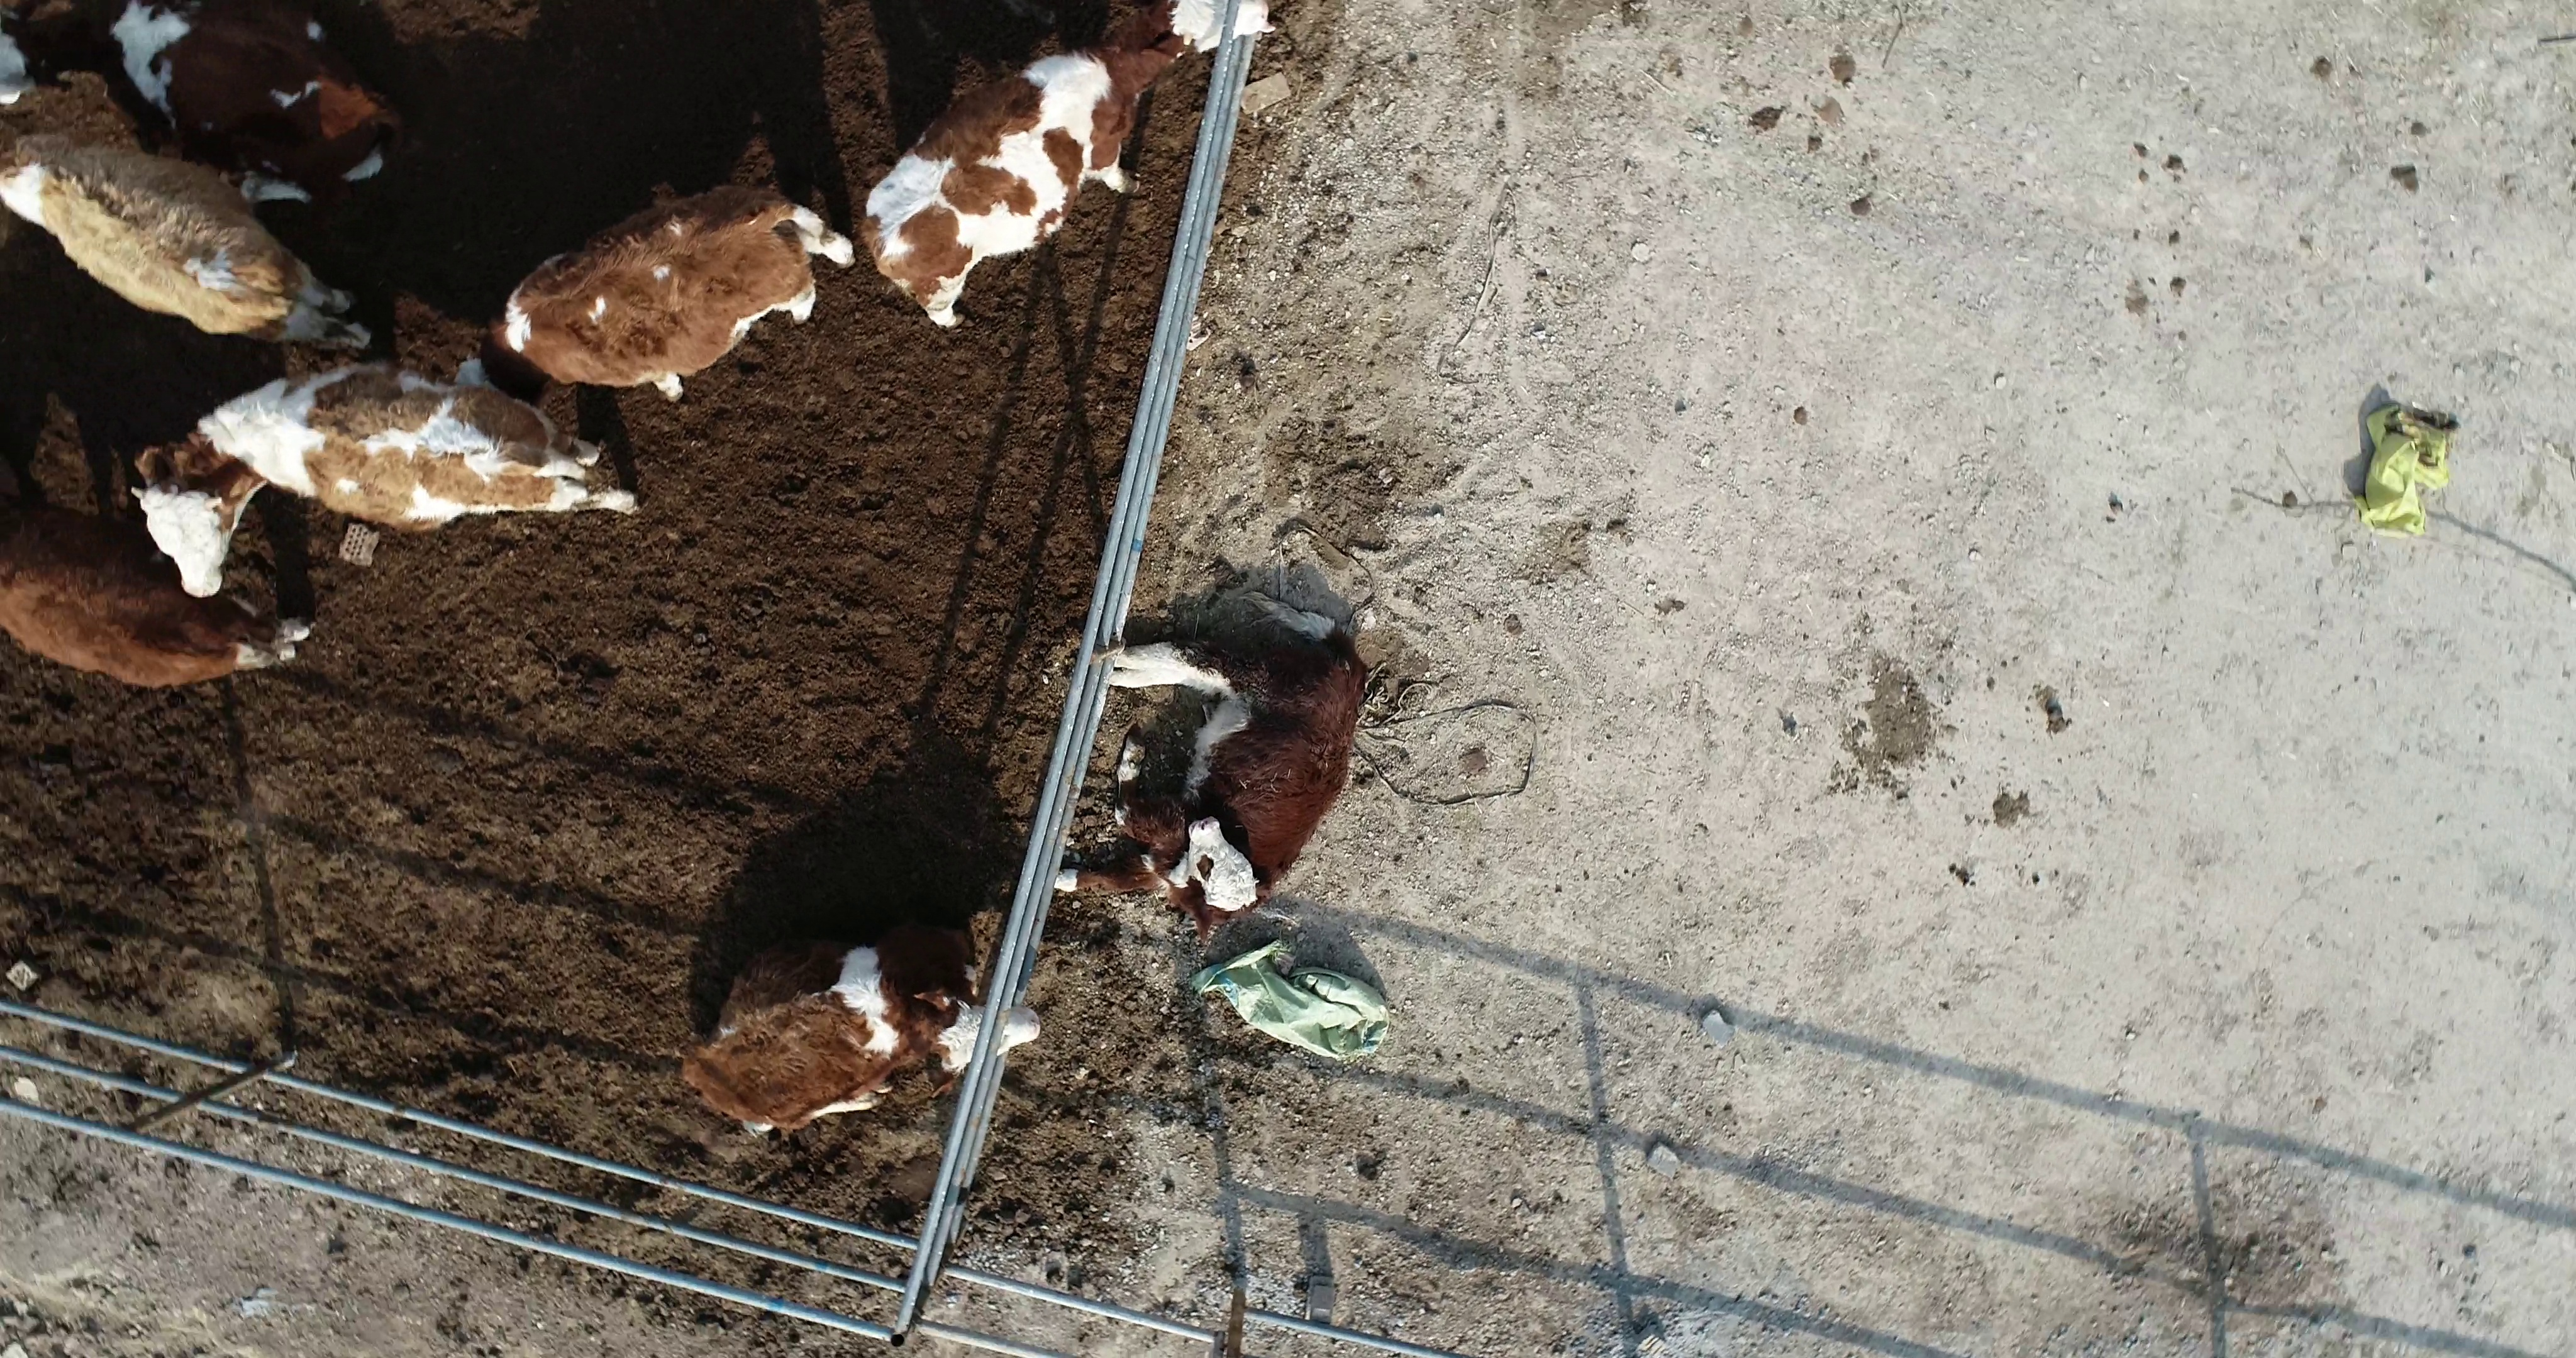cattle: (855, 2, 1283, 334), (121, 358, 647, 605)
